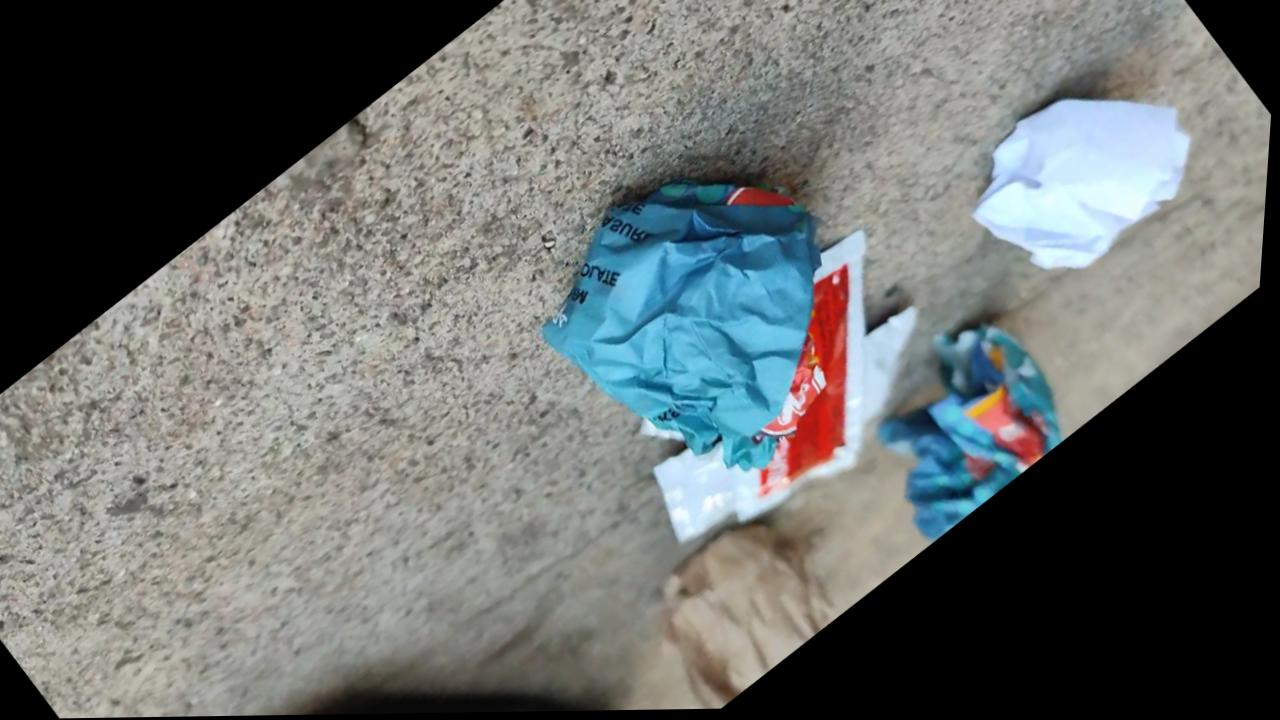paper: (463, 105, 922, 539), (913, 0, 1266, 337), (807, 294, 1100, 564), (620, 501, 854, 710)
